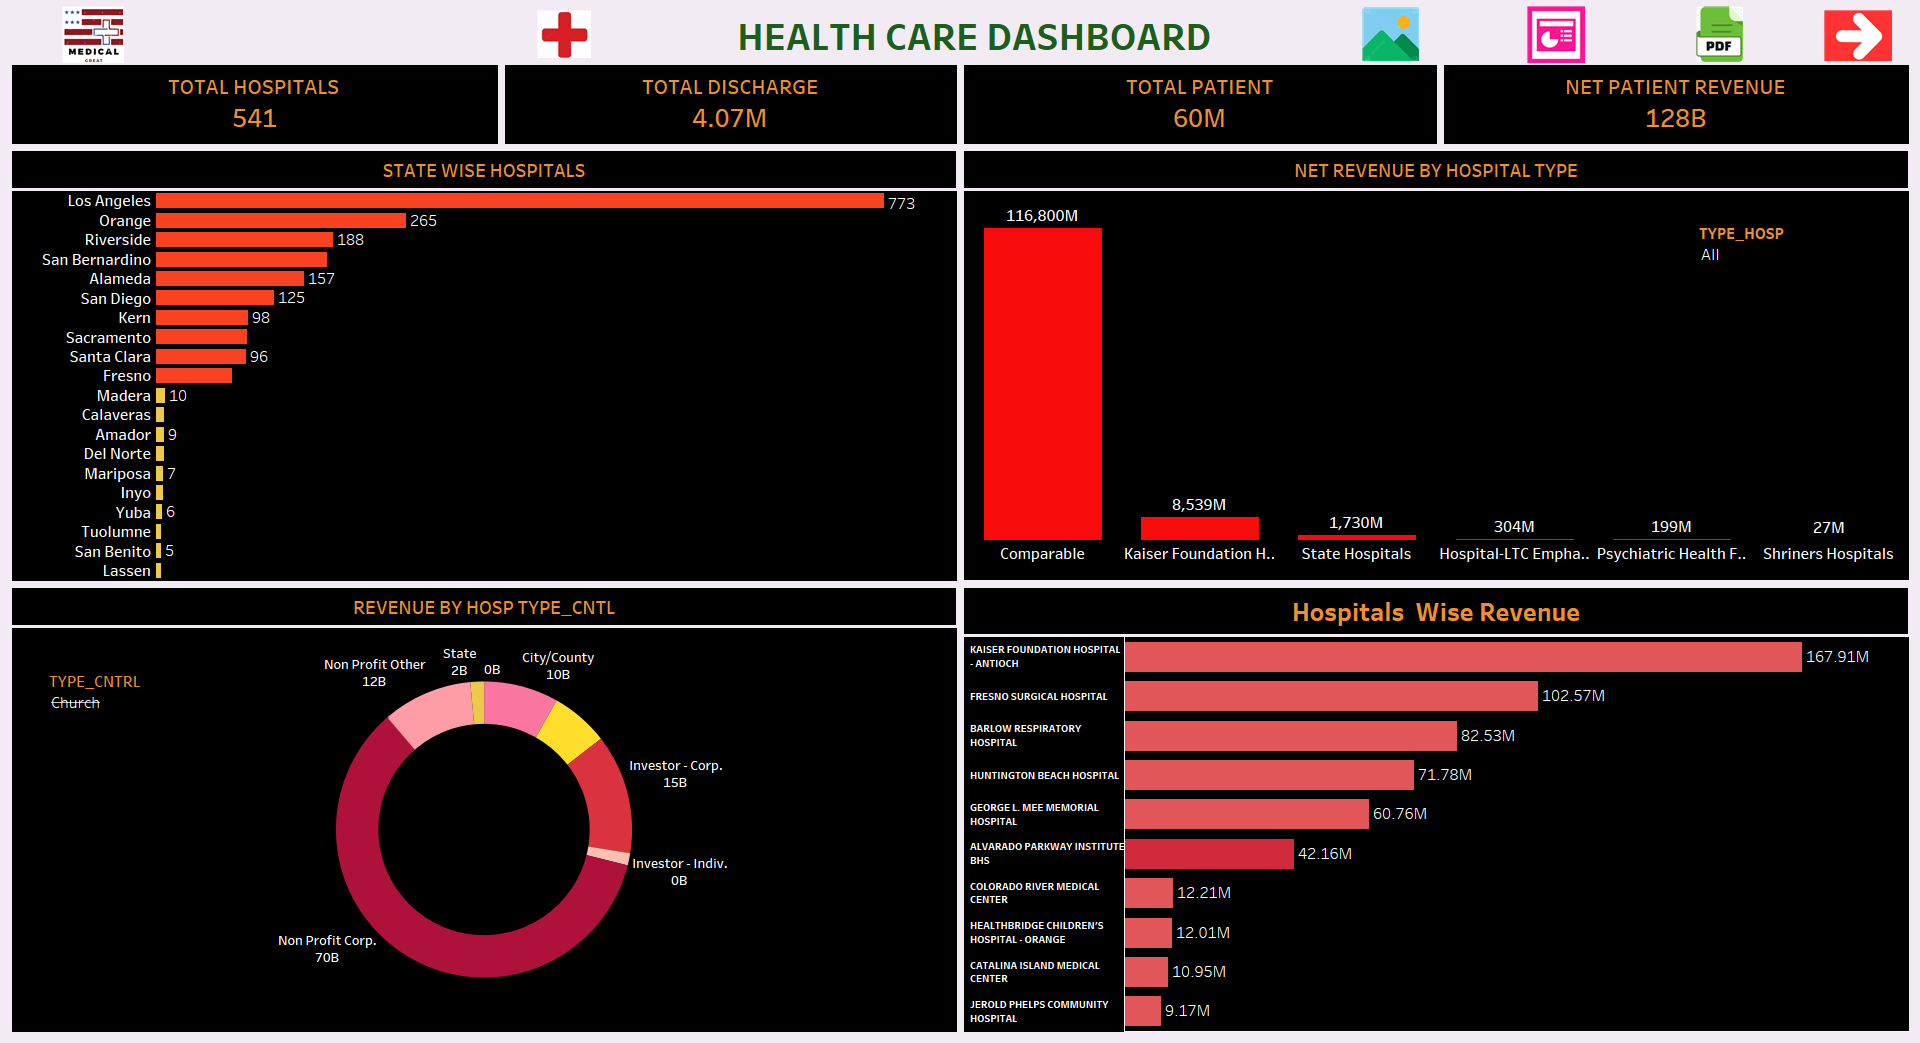

The dashboard page shown, as its layout file describes it:
{"tool":"tableau","page":{"name":"Dashboard 1","canvas":[1000,1000],"units":"permille","ordinal":0},"visuals":[{"type":"image","param":"Image/Screenshot 2024-11-22 224243.png","box":[6.4,5.5,84.4,54.9]},{"type":"dashboard-object","box":[795.6,5.5,29.9,54.9]},{"type":"dashboard-object","box":[882.2,5.5,26.9,53.8]},{"type":"dashboard-object","box":[709.4,6.6,29.9,51.6]},{"type":"text","box":[5.1,9.4,989.7,50.4]},{"type":"image","param":"Image/PLUS SYMBOL.png","box":[272.2,9.9,43.5,46.1]},{"type":"dashboard-object","box":[945.5,9.9,44.5,48.3]},{"type":"worksheet","title":"Total Hospitals","mark":"Automatic","box":[5.1,59.8,256.2,82]},{"type":"worksheet","title":"Total_Discharge","mark":"Automatic","box":[261.3,59.8,238.6,82]},{"type":"worksheet","title":"Total_Patient","mark":"Automatic","box":[499.9,59.8,249.7,82]},{"type":"worksheet","title":"Net Patient Revenue","mark":"Automatic","box":[749.6,59.8,245.3,82]},{"type":"worksheet","title":"State Wise Hospitals","mark":"Automatic","rows":["COUNTY_NAME"],"cols":["FAC_NAME"],"box":[5.1,141.7,495,417.7]},{"type":"worksheet","title":"Net Revenue By Hospital Type","mark":"Automatic","rows":["NET_TOT"],"cols":["TYPE_HOSP"],"box":[500.1,141.7,494.7,417.7]},{"type":"filter","title":"Net Revenue By Hospital Type","param":"[federated.1c73i021is9wwi14yl2510tj42kp].[none:TYPE_HOSP:nk]","box":[884.7,213,96.6,58.2]},{"type":"worksheet","title":"Revenue By Hosp Type_CntL","mark":"Pie","rows":["Calculation_3543769973969686533","Calculation_3543769973969715207"],"box":[5.1,559.4,494.9,431.2]},{"type":"worksheet","title":"Sheet 16","mark":"Bar","rows":["FAC_NAME"],"cols":["NET_TOT"],"box":[500,559.4,494.9,431.2]},{"type":"filter","title":"Revenue By Hosp Type_CntL","param":"[federated.1c73i021is9wwi14yl2510tj42kp].[none:TYPE_CNTRL:nk]","box":[25.4,642.1,96.6,58.2]}]}

Visuals, with their boxes on the dashboard's canvas, which has no fixed pixel size, in thousandths of its width and height (x1, y1, x2, y2). These are canvas units, not pixel positions in the 1920x1043 screenshot, which may show the page scaled, cropped or inside an application window:
image: 6,6,91,60
dashboard-object: 796,6,826,60
dashboard-object: 882,6,909,59
dashboard-object: 709,7,739,58
text: 5,9,995,60
image: 272,10,316,56
dashboard-object: 946,10,990,58
"Total Hospitals" worksheet: 5,60,261,142
"Total_Discharge" worksheet: 261,60,500,142
"Total_Patient" worksheet: 500,60,750,142
"Net Patient Revenue" worksheet: 750,60,995,142
"State Wise Hospitals" worksheet: 5,142,500,559
"Net Revenue By Hospital Type" worksheet: 500,142,995,559
"Net Revenue By Hospital Type" filter: 885,213,981,271
"Revenue By Hosp Type_CntL" worksheet (Pie marks): 5,559,500,991
"Sheet 16" worksheet (Bar marks): 500,559,995,991
"Revenue By Hosp Type_CntL" filter: 25,642,122,700
